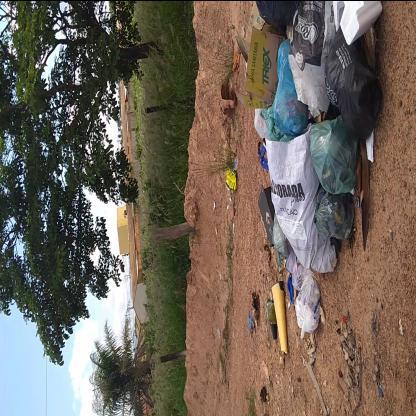lixo: (248, 0, 384, 346)
